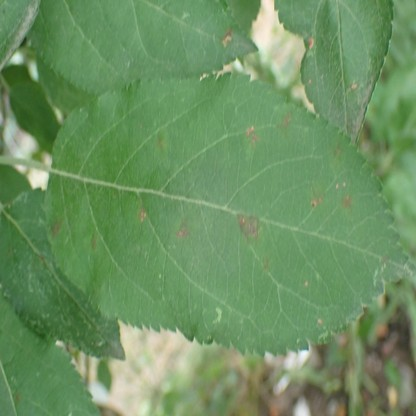frogeye_leaf_spot: (308, 35, 313, 48)
powdery_mildew: (344, 80, 375, 144), (394, 262, 414, 277)
scab: (237, 214, 258, 241), (276, 111, 290, 133), (51, 216, 63, 241), (176, 220, 190, 238), (247, 125, 257, 144), (157, 132, 165, 151), (138, 208, 147, 224), (380, 254, 390, 265), (343, 196, 351, 209), (311, 195, 321, 205), (261, 257, 268, 271), (91, 233, 96, 252), (334, 142, 341, 155)
